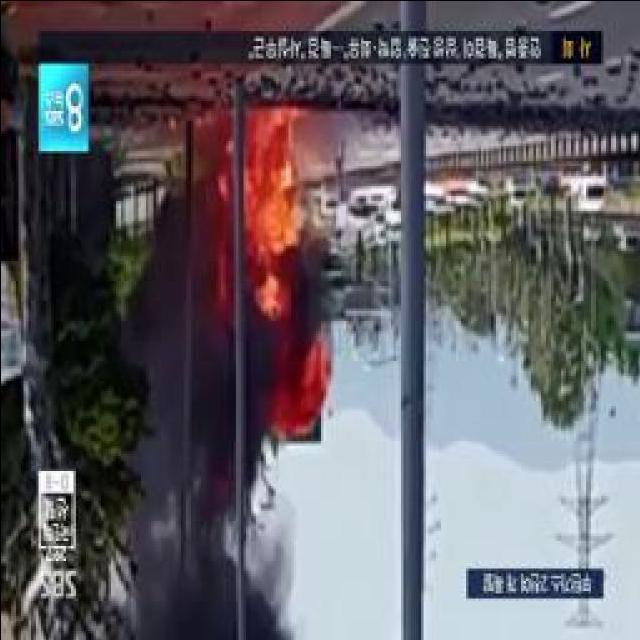Fire: (238, 114, 296, 246)
